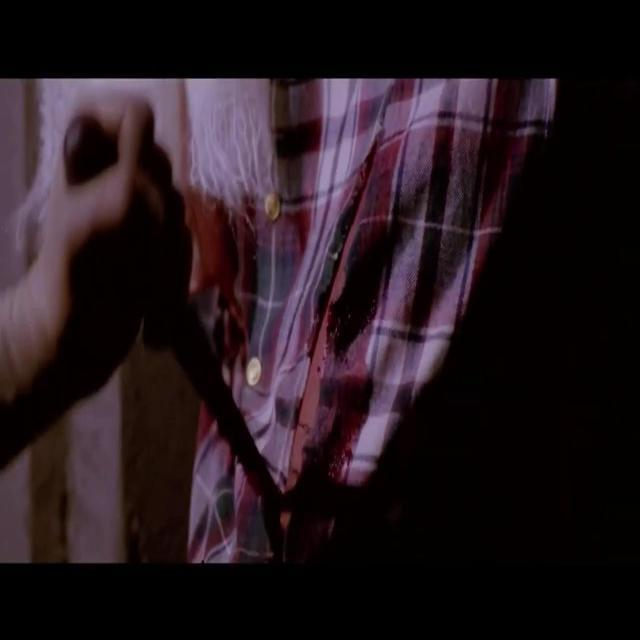flood: (273, 178, 387, 552), (186, 178, 264, 324)
